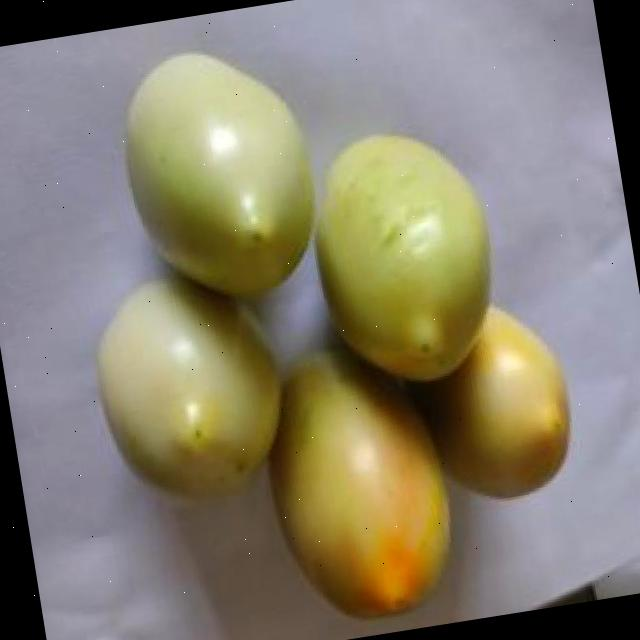tomato: (254, 335, 462, 632), (112, 34, 326, 312), (298, 117, 512, 394), (80, 257, 297, 514), (411, 296, 579, 509)
